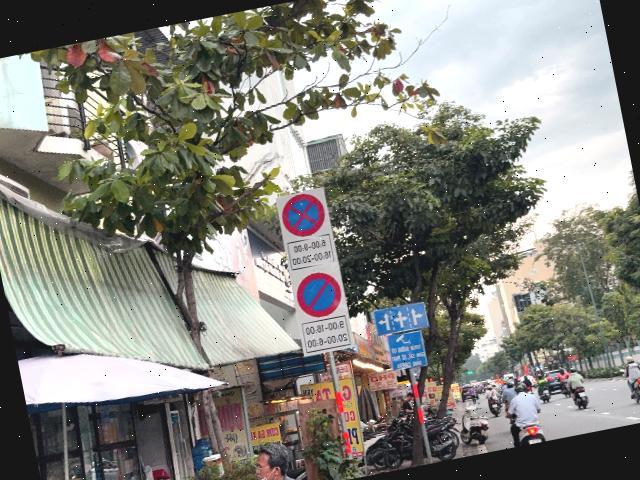cam-do-xe: (293, 267, 345, 320)
cam-dung-va-do-xe: (278, 190, 328, 240)
